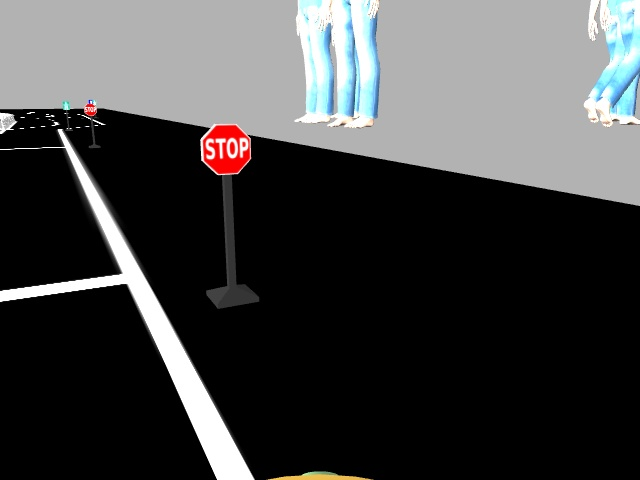Stop: (197, 121, 255, 174)
